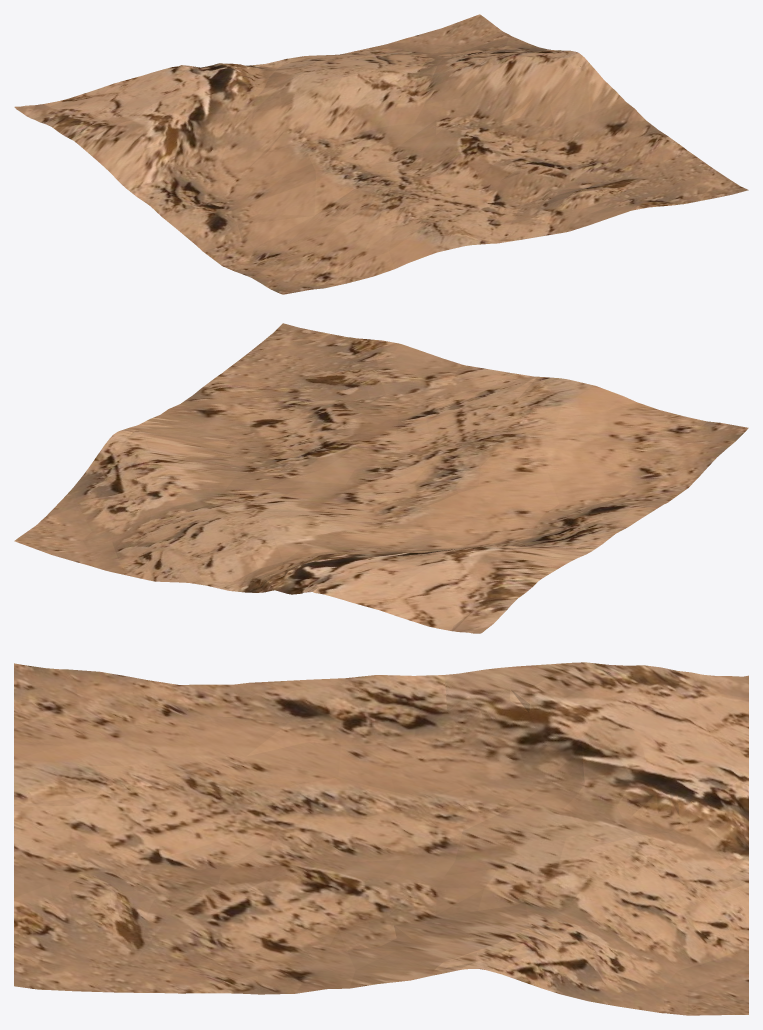
3 views of the same model, one above another, from view 1: azimuth 30°, elevation 25°; view 2: azimuth 150°, elevation 25°; view 3: azimuth 270°, elevation 25° (orthographic). The views are drawn at different scales.
Size of the model in its own units: 1.04 by 0.0924 by 1.04.
Materials: 2 (2 with a texture image).
